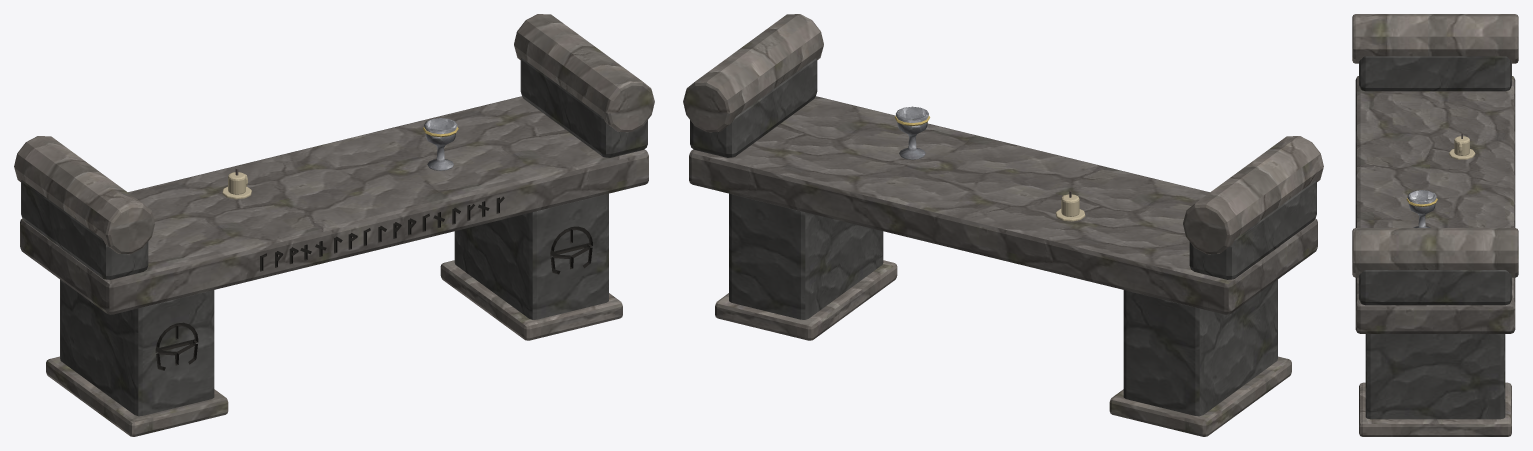
The model's file is th_mourning_bench.glb.
3 views of the same model, side by side, from view 1: azimuth 30°, elevation 25°; view 2: azimuth 150°, elevation 25°; view 3: azimuth 270°, elevation 25° (orthographic). The views are drawn at different scales.
Parts seen in each view (by area): view 1: model; view 2: model; view 3: model.
Boxes of the visible parts, x1,y1,x2,y2 form: model: (14,14,654,436); model: (683,14,1323,436); model: (1352,14,1518,436).
Size of the model in its own units: 1.67 by 0.695 by 0.5.
Materials: 8 (4 with a texture image).
